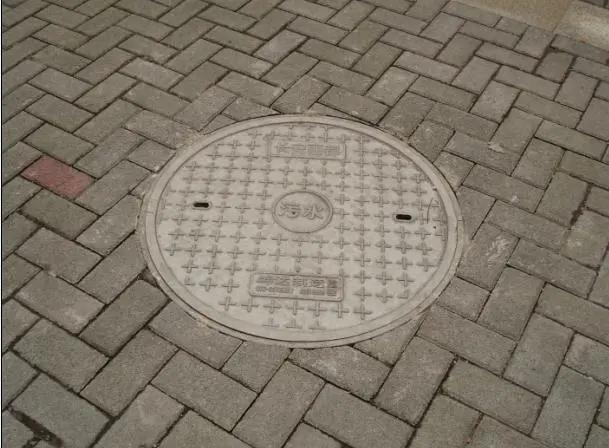wellcover: (143, 99, 472, 343)
